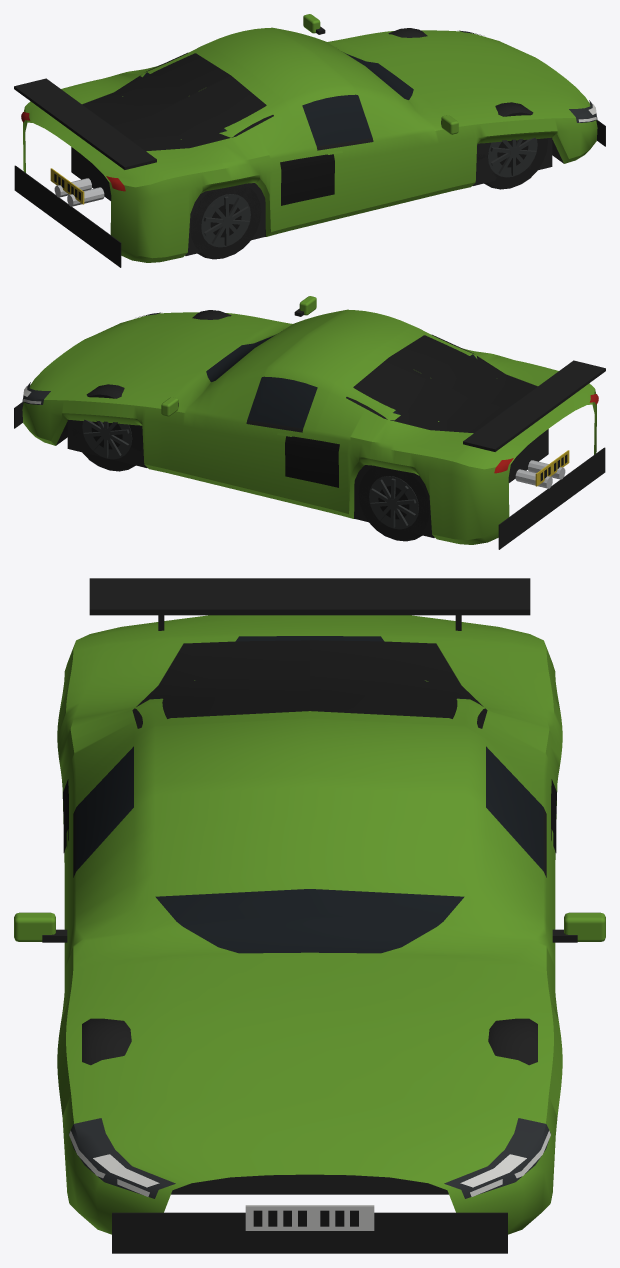
Rendered from SM_Prop_parked_car_113.glb.
3 renders of one model, top to bottom at view 1: azimuth 30°, elevation 25°; view 2: azimuth 150°, elevation 25°; view 3: azimuth 270°, elevation 25°, orthographic. The views are drawn at different scales.
Visible parts, largest first — view 1: SM_Prop_parked_car_113; view 2: SM_Prop_parked_car_113; view 3: SM_Prop_parked_car_113.
Boxes of the visible parts, x1,y1,x2,y2 form: SM_Prop_parked_car_113: [14, 14, 605, 267]; SM_Prop_parked_car_113: [14, 296, 605, 549]; SM_Prop_parked_car_113: [14, 578, 605, 1253].
Bounding box in the file's own units: 4.57 × 1.19 × 2.39.
